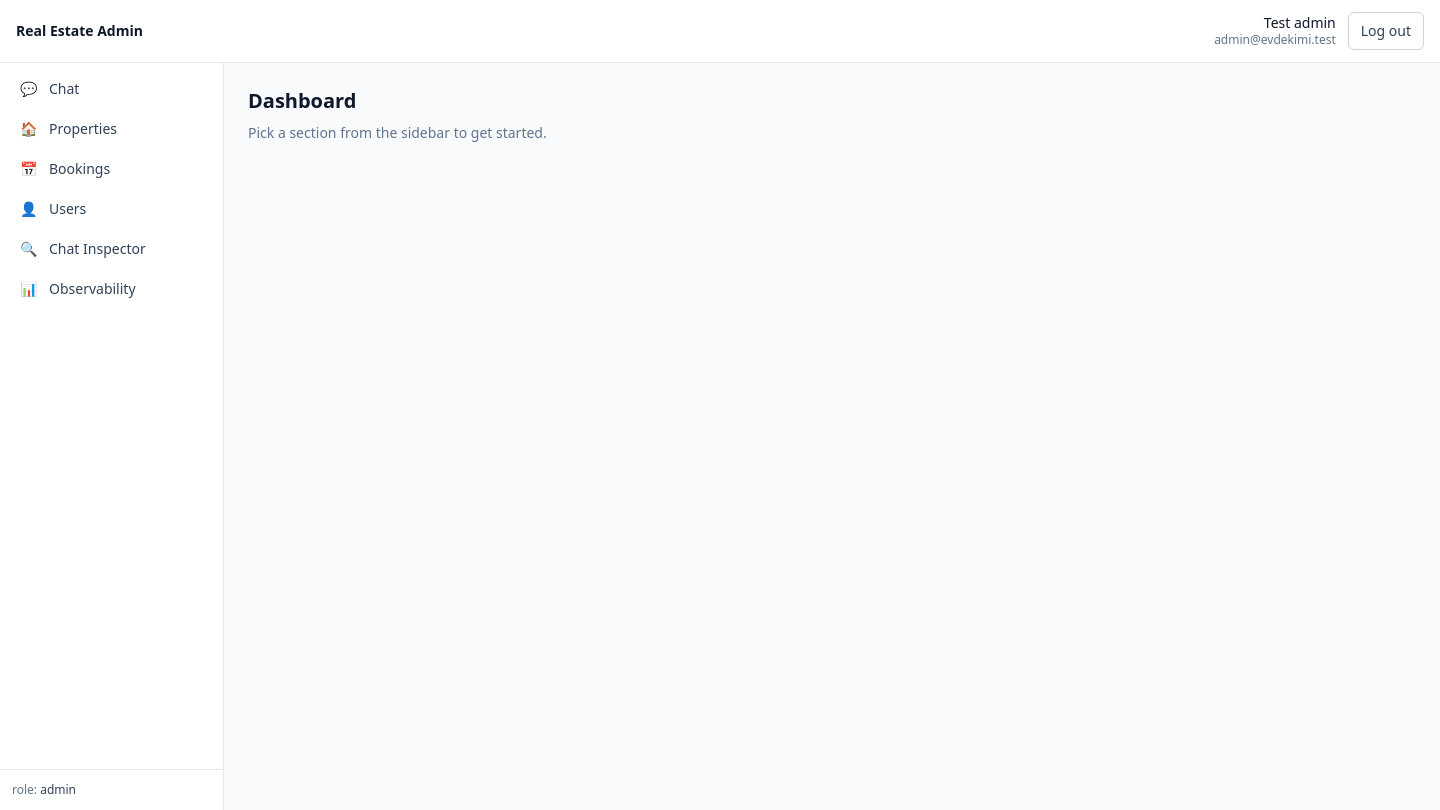
Test: logout probe › clears nothing when the network drops mid-logout
This screenshot has width=1440, height=810.
Step 1. Click the button "Log out" → point(1386, 31), box [1348,12,1424,50]
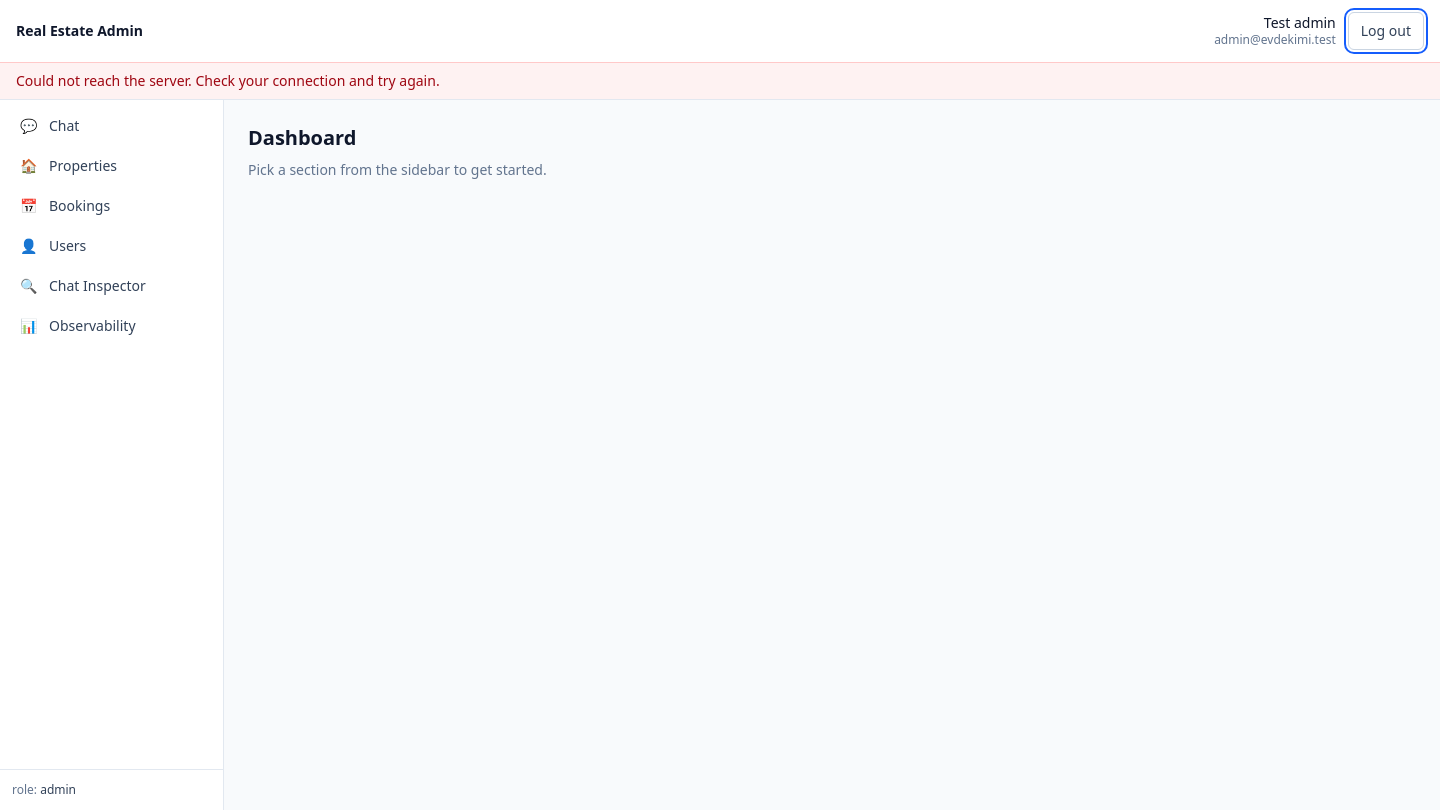
Check: the message shows "Could not reach the server", box [16,71,440,90]
